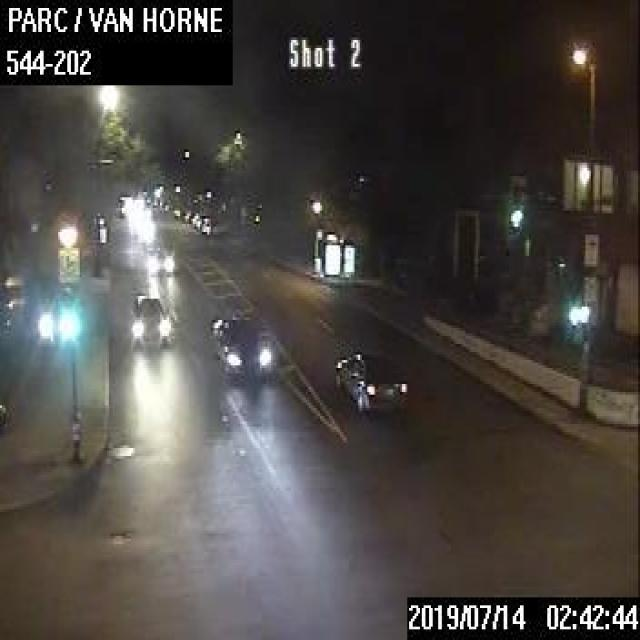vehicle: (332, 346, 411, 416), (208, 312, 276, 379), (129, 292, 169, 340), (146, 246, 172, 271), (116, 192, 146, 213), (190, 211, 207, 227), (200, 216, 217, 232)
